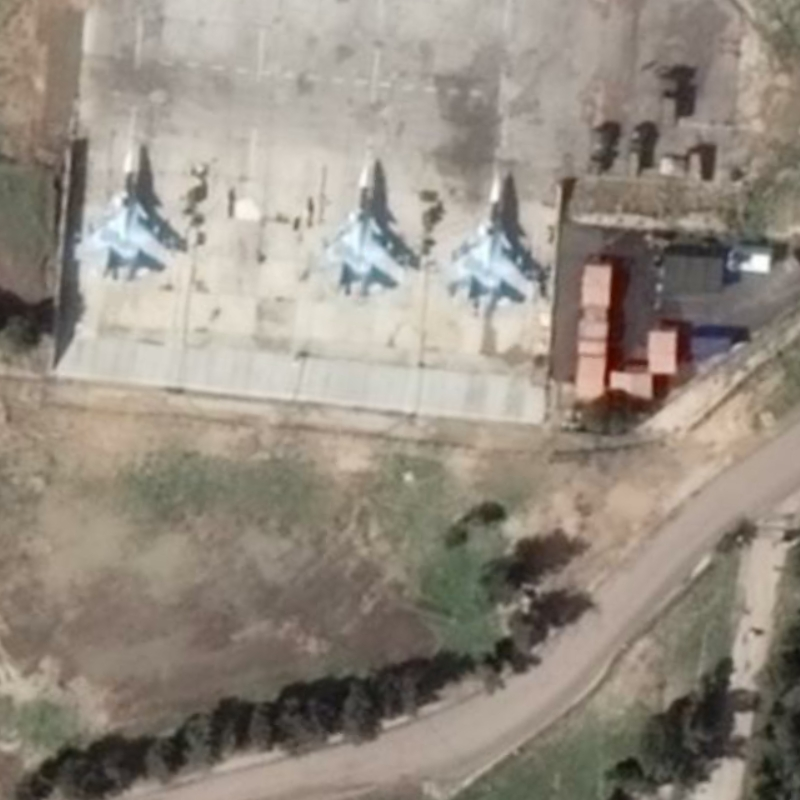A19: (69, 143, 178, 286), (443, 172, 545, 317), (315, 161, 412, 301)
